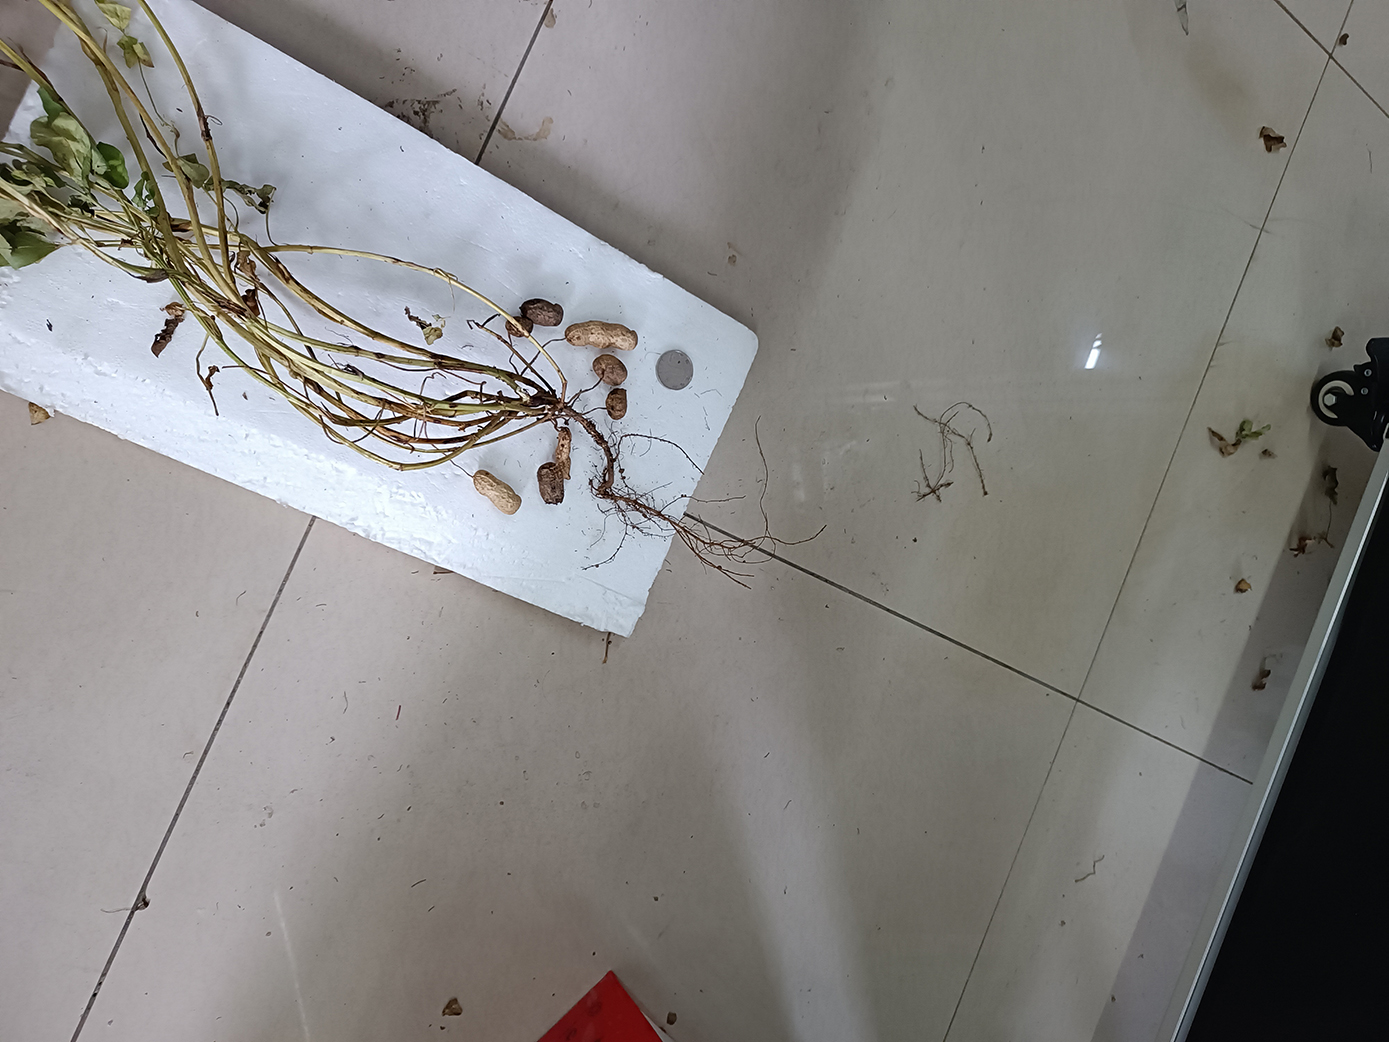h: (565, 320, 638, 351), (473, 468, 522, 516)
l: (521, 298, 564, 327), (537, 463, 566, 505), (592, 354, 629, 385), (554, 428, 572, 481), (606, 387, 627, 420), (506, 316, 533, 338)
